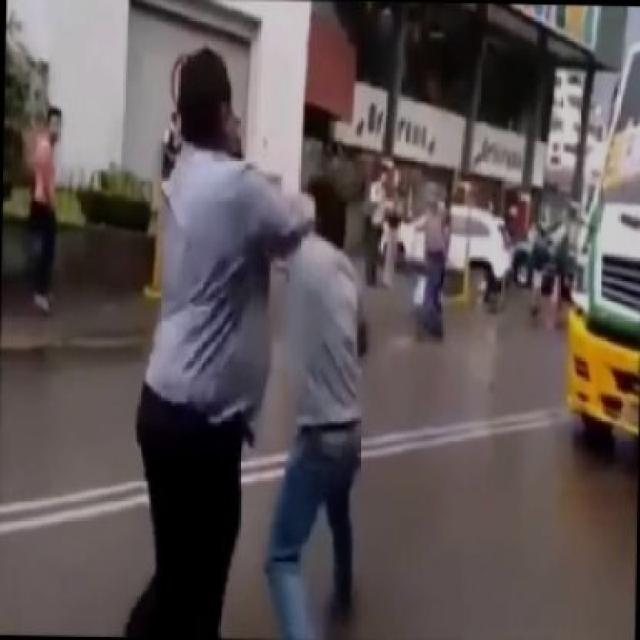fight: (117, 41, 426, 638)
